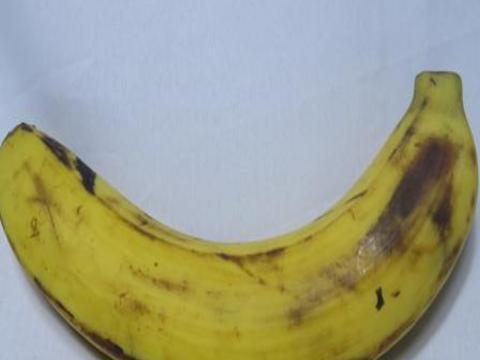overripe: (0, 48, 479, 359)
